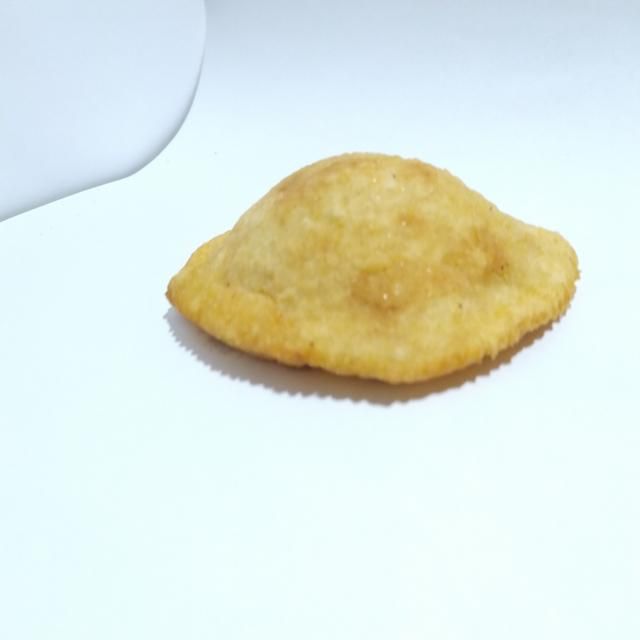Pastel_Mandio: (162, 132, 592, 418)
